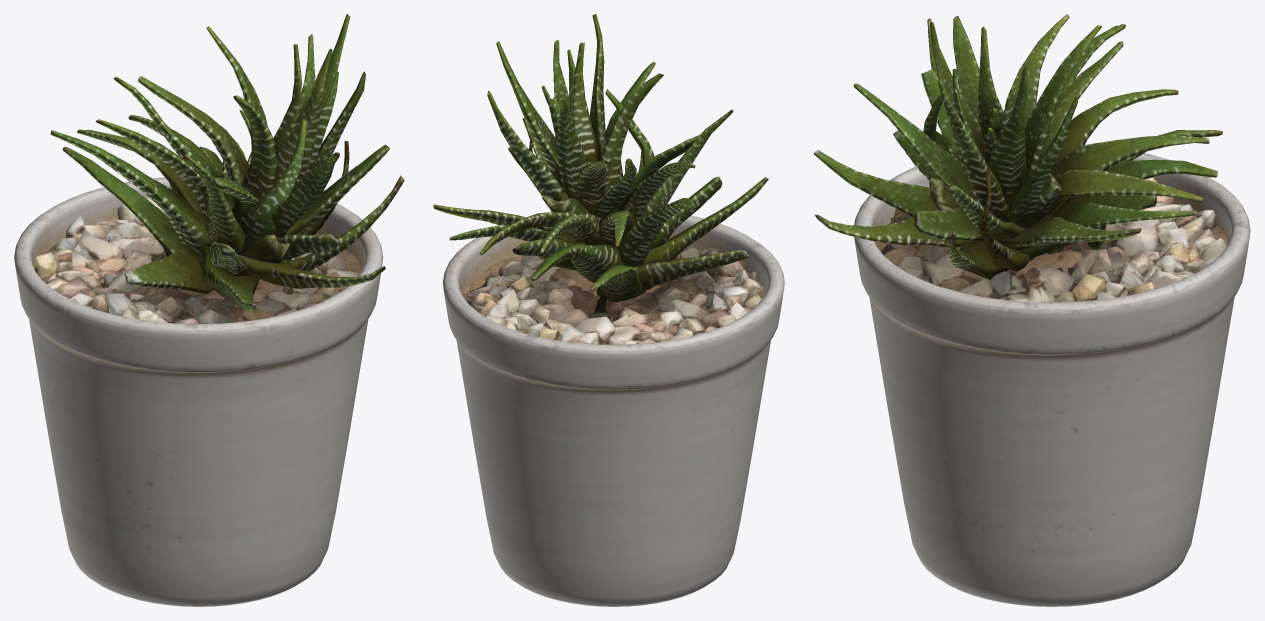
File: potted_plant_04.gltf
The picture shows the model from 3 angles, left to right: view 1: azimuth 30°, elevation 25°; view 2: azimuth 150°, elevation 25°; view 3: azimuth 270°, elevation 25°; orthographic projection. The views are drawn at different scales.
Visible parts, largest first — view 1: potted_plant_04_pot, potted_plant_04_plant, potted_plant_04_ground, potted_plant_04_dirt; view 2: potted_plant_04_pot, potted_plant_04_plant, potted_plant_04_ground, potted_plant_04_dirt; view 3: potted_plant_04_pot, potted_plant_04_plant, potted_plant_04_ground, potted_plant_04_dirt.
Boxes of the visible parts, x1,y1,x2,y2 form: potted_plant_04_pot: (14, 177, 383, 606); potted_plant_04_plant: (50, 14, 404, 311); potted_plant_04_ground: (34, 196, 357, 323); potted_plant_04_dirt: (34, 238, 362, 307); potted_plant_04_pot: (443, 215, 784, 606); potted_plant_04_plant: (433, 14, 768, 314); potted_plant_04_ground: (463, 247, 765, 344); potted_plant_04_dirt: (462, 247, 765, 306); potted_plant_04_pot: (854, 144, 1250, 606); potted_plant_04_plant: (813, 14, 1222, 279); potted_plant_04_ground: (881, 177, 1227, 302); potted_plant_04_dirt: (875, 200, 1228, 297).
Bounding box in the file's own units: 0.1679 × 0.2675 × 0.1848.
Materials: 1 (1 with a texture image).
